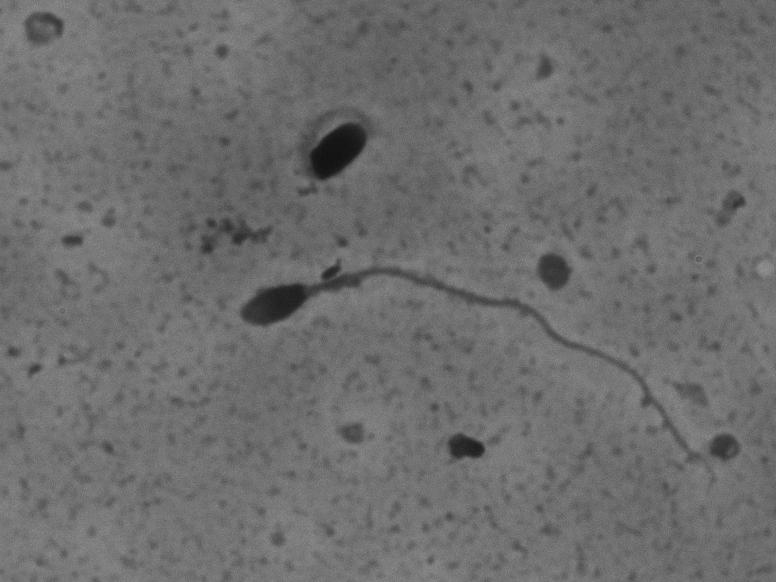Abnormal: (231, 252, 728, 490), (278, 92, 410, 212)
